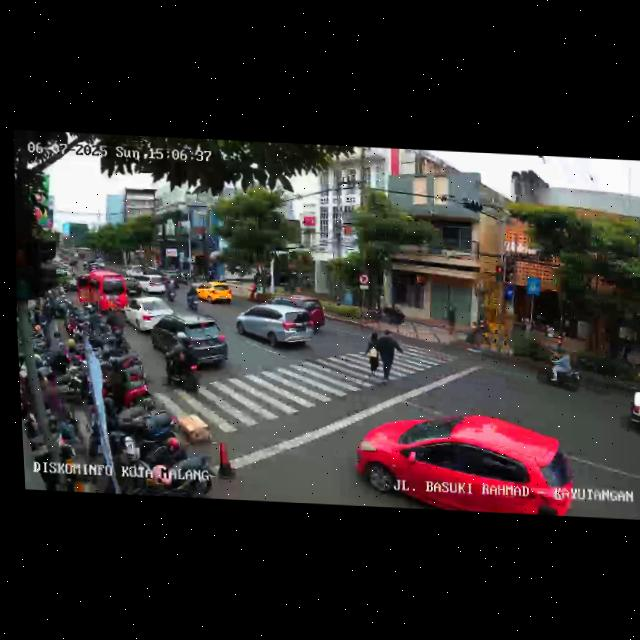car: (354, 408, 578, 516), (150, 310, 232, 371), (235, 300, 314, 354), (259, 294, 326, 336), (74, 270, 128, 315), (123, 295, 176, 334), (621, 362, 640, 441), (187, 279, 233, 308), (130, 273, 172, 298), (124, 277, 142, 297)
motorcycle: (534, 341, 582, 394), (162, 332, 203, 392), (184, 282, 200, 310), (164, 279, 177, 301)
person: (376, 329, 406, 384), (359, 329, 381, 380)
